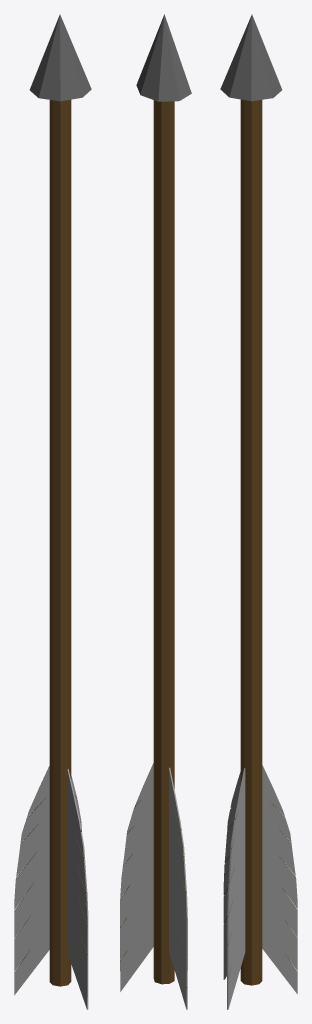
Rendered from ArrowLvl2.fbx.
3 renders of one model, left to right at view 1: azimuth 90°, elevation 25°; view 2: azimuth 210°, elevation 25°; view 3: azimuth 270°, elevation 25°, orthographic.
Parts seen in each view (by area): view 1: ArrowLvl2.001; view 2: ArrowLvl2.001; view 3: ArrowLvl2.001.
Part boxes in pixels (x1,y1,x2,y2): ArrowLvl2.001: [14, 14, 91, 1009]; ArrowLvl2.001: [120, 14, 191, 1009]; ArrowLvl2.001: [220, 14, 297, 1009].
Size of the model in its own units: 2.67 by 39.9 by 2.86.
